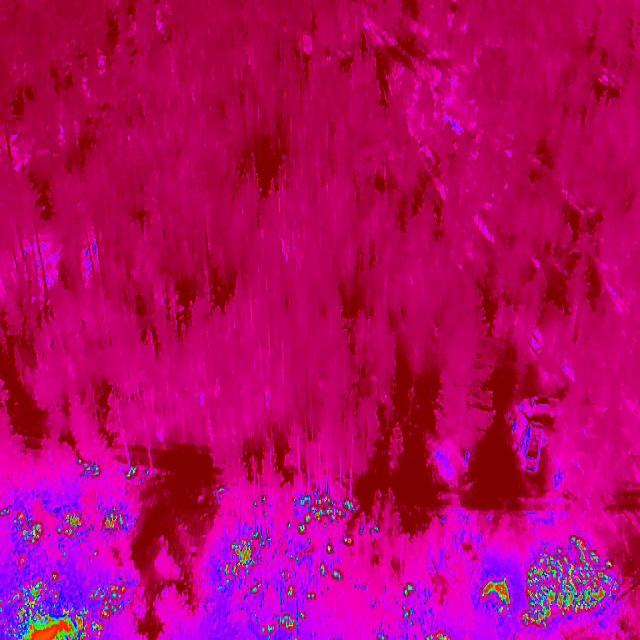fire: (519, 533, 625, 631), (0, 572, 133, 640), (260, 557, 348, 640), (0, 500, 134, 548), (284, 490, 372, 550), (218, 521, 272, 589), (478, 576, 512, 612), (394, 579, 420, 625), (73, 457, 106, 481), (118, 464, 152, 484), (421, 627, 453, 640), (213, 481, 230, 503)
